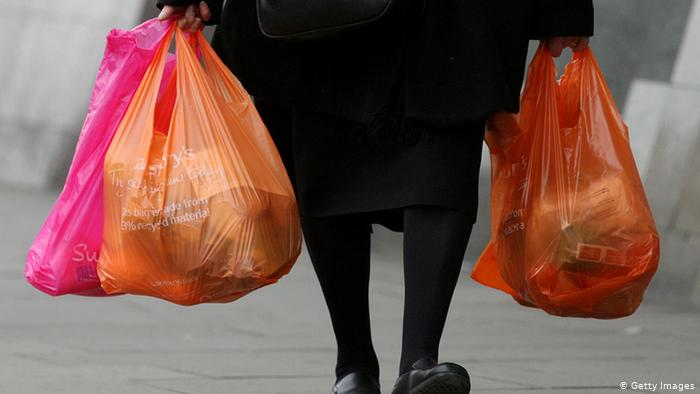plastic_bagwdw: (86, 3, 317, 357), (447, 17, 661, 348), (9, 1, 192, 319)
